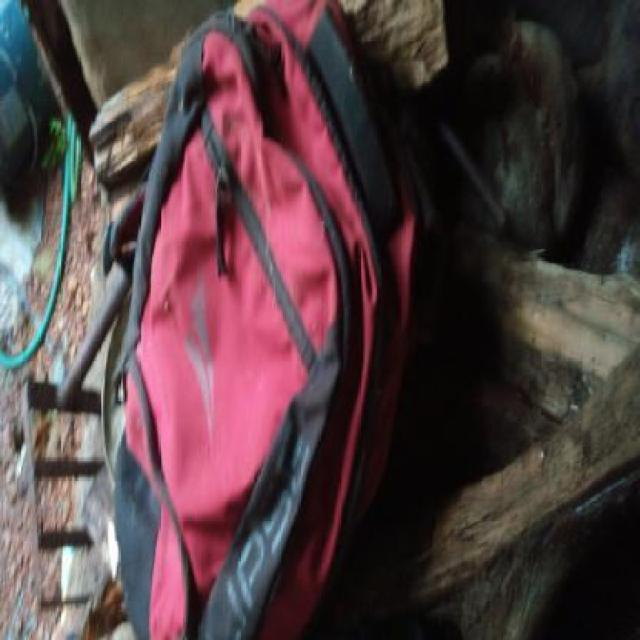backpack: (99, 0, 443, 640)
